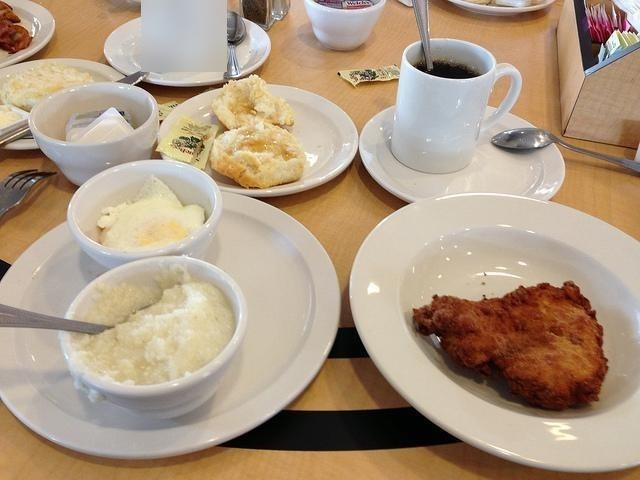cup-handle: (388, 36, 524, 176)
